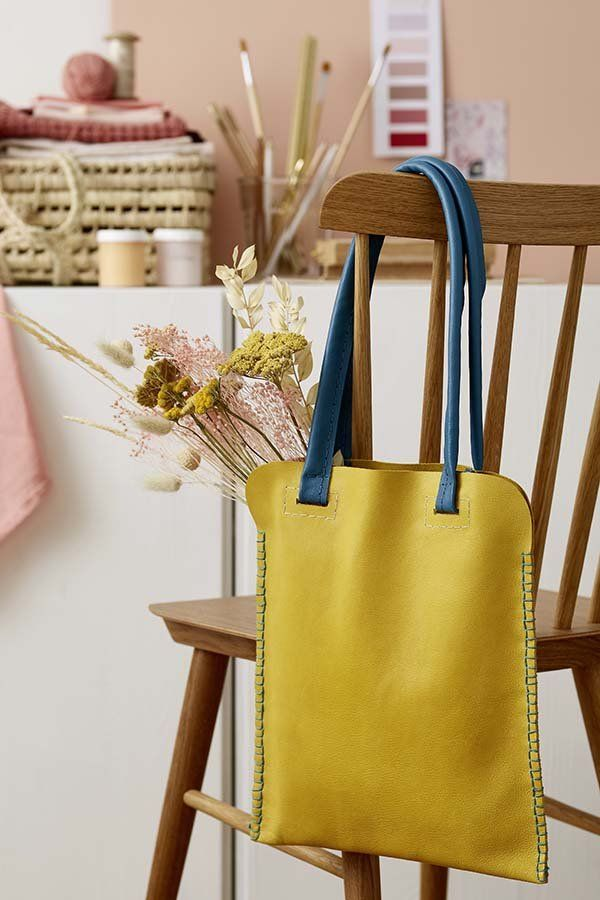cuero: (244, 157, 551, 884)
